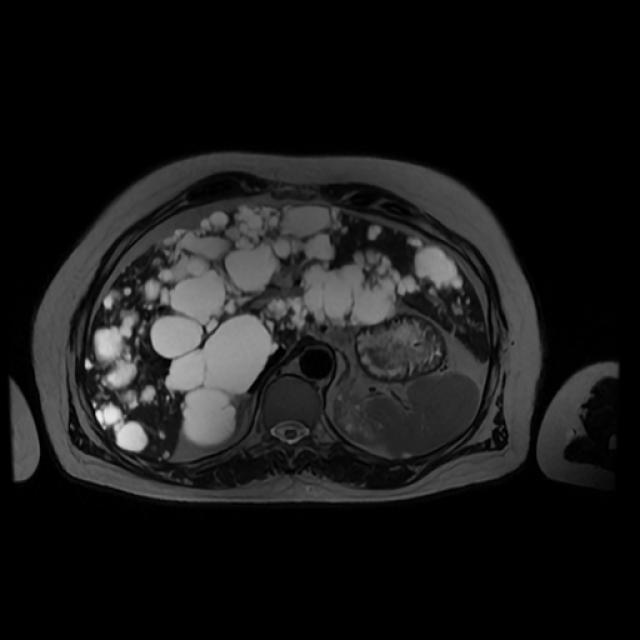sol: (333, 395, 380, 445)
